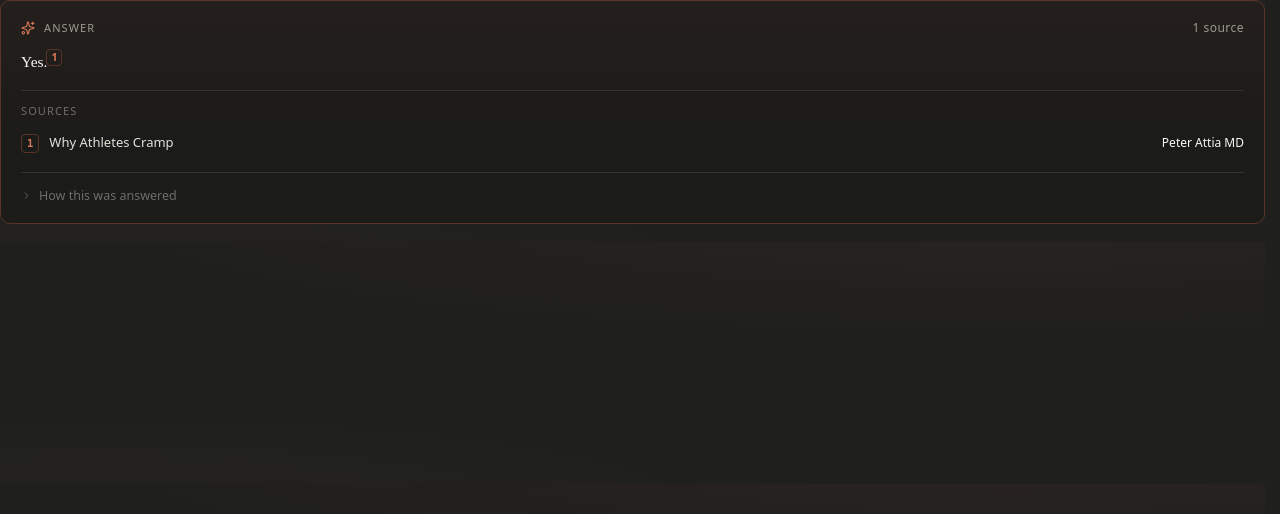
Test: AnswerPanel trace › labels each step in plain words, with the tool beside it
Click the button "How this was answered". click: {"x": 99, "y": 196}
box: [21,187,177,205]
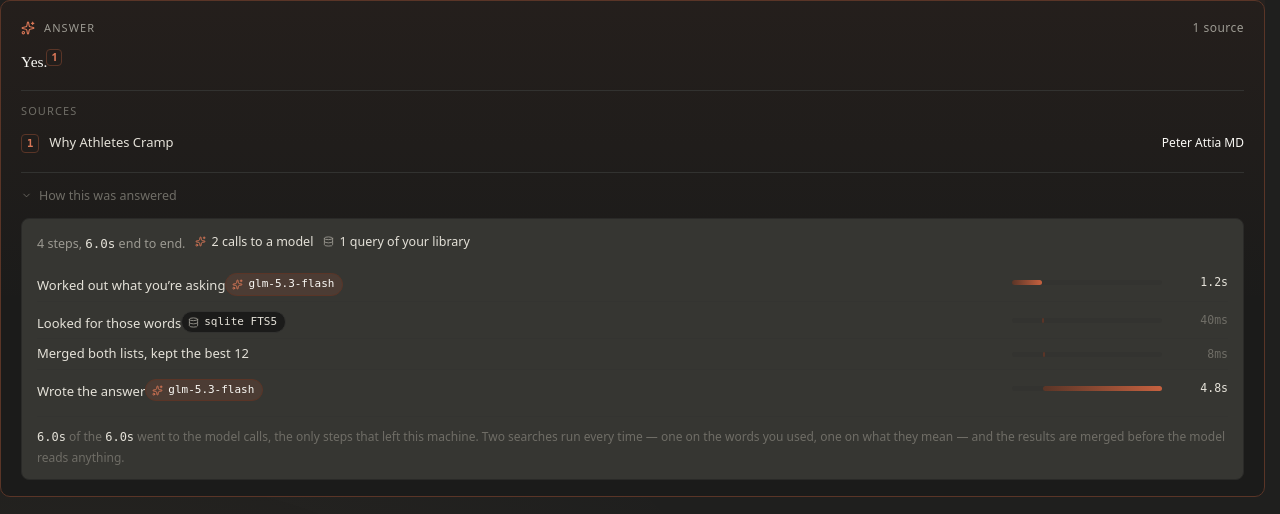
Now the element with class "trace-row" shows "Worked out what you’re asking", box [37,276,225,294]
Now the element with class "trace-row" shows "glm-5.3-flash", box [248,277,334,290]
Now the element with class "trace-row" shows "Wrote the answer", box [37,382,145,400]
